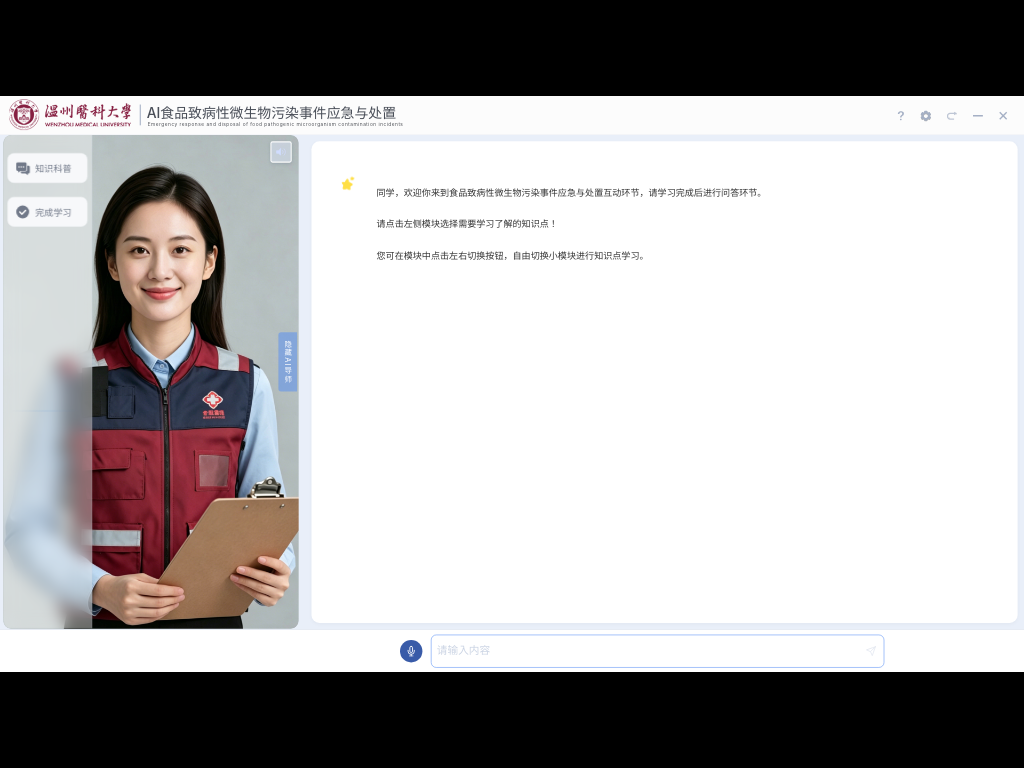
Test: KnowledgePage › 切换模块后页码重置为第一页
Click the button "知识科普" at (48, 168), box top-left (8, 153), bottom-right (88, 183)
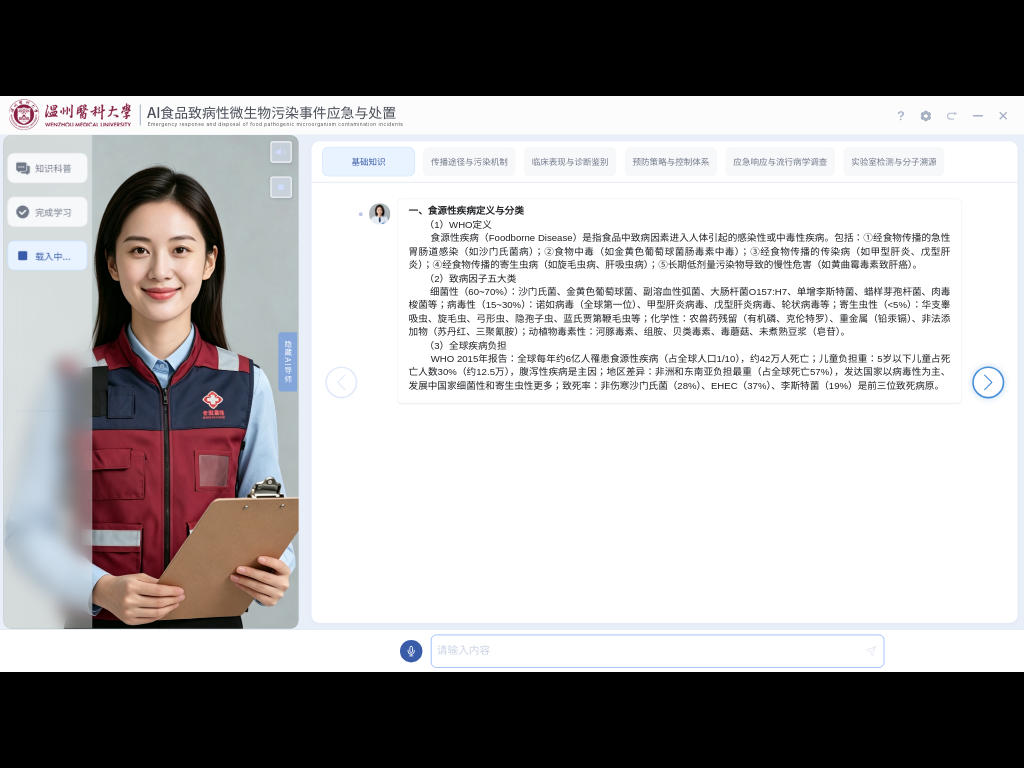
Click the button "预防策略与控制体系" at (671, 162), box top-left (625, 147), bottom-right (717, 177)
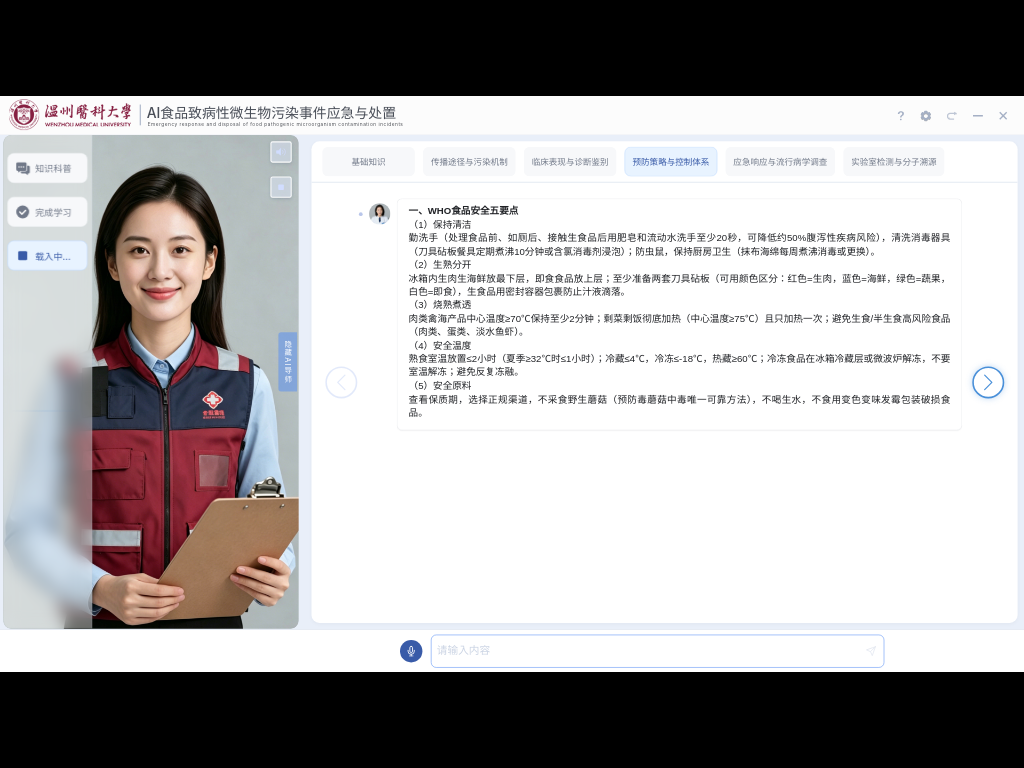
Click the button named "下一页" at (988, 382), box top-left (972, 366), bottom-right (1004, 398)
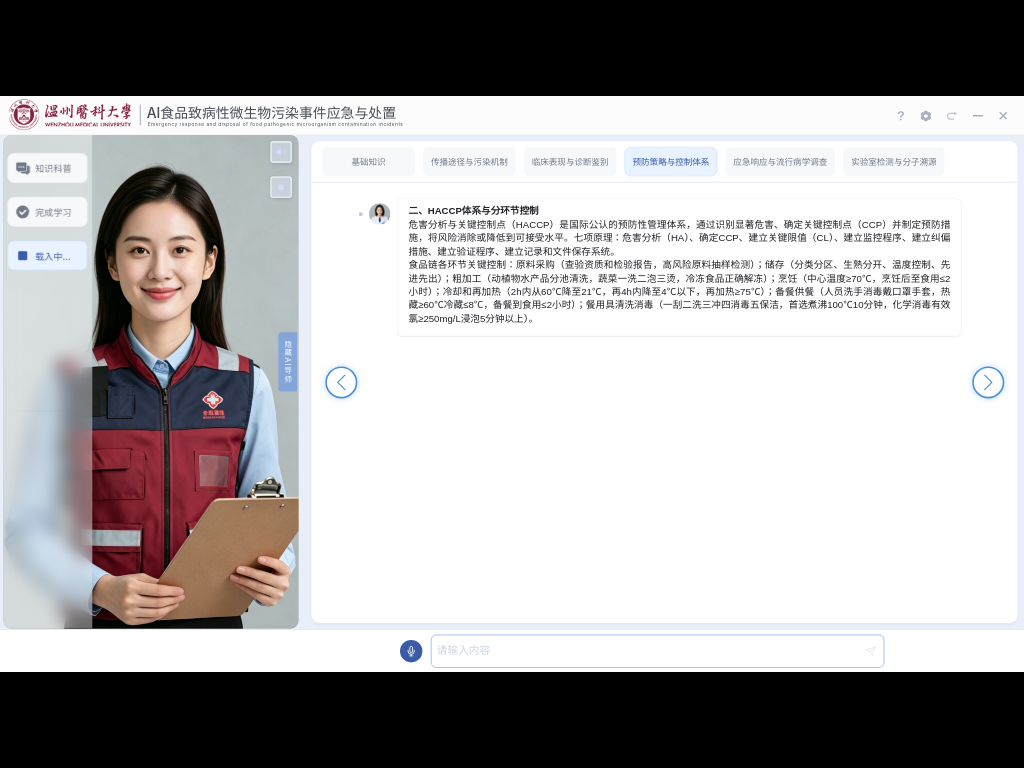
Expected: the text "二、HACCP体系与分环节控制" is shown, top-left (408, 206), bottom-right (539, 217)
Click the button "预防策略与控制体系" at (671, 162), box top-left (625, 147), bottom-right (717, 177)
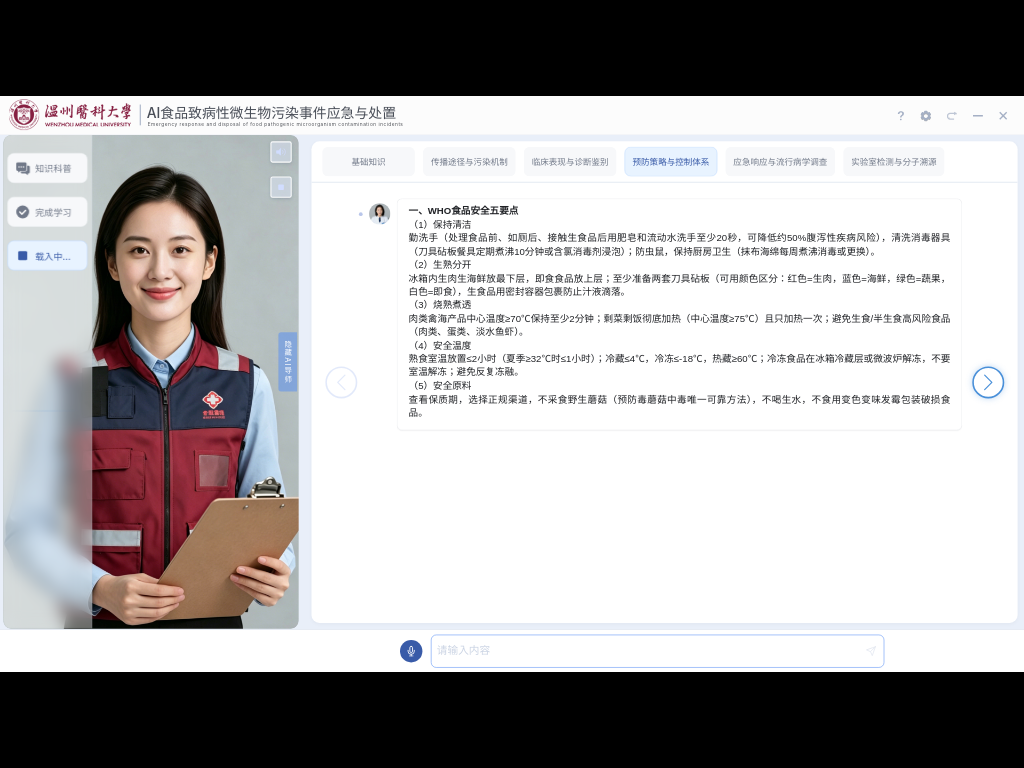
Expected: the text "一、WHO食品安全五要点" is shown, top-left (408, 206), bottom-right (518, 217)
